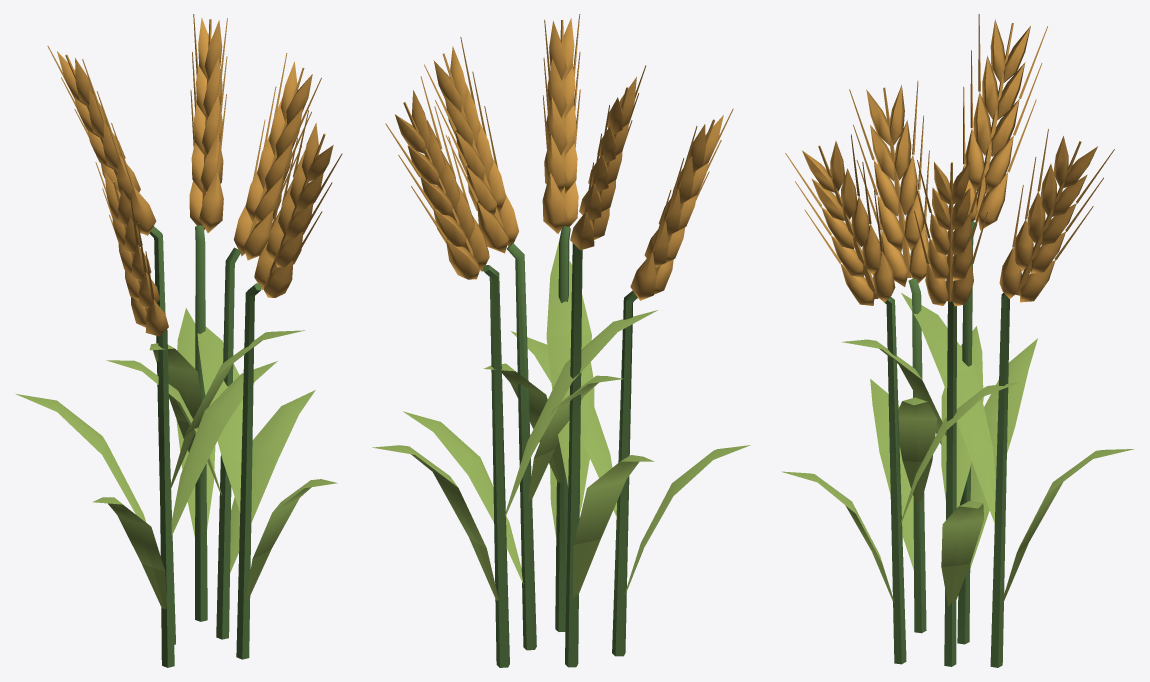
Rendered from crop_barley_mature.glb.
3 views of the same model, side by side, from view 1: azimuth 30°, elevation 25°; view 2: azimuth 150°, elevation 25°; view 3: azimuth 270°, elevation 25° (orthographic). The views are drawn at different scales.
Parts seen in each view (by area): view 1: barley_head_0_awn_0, barley_leaf_0_0, barley_stalk_0; view 2: barley_head_0_awn_0, barley_leaf_0_0, barley_stalk_0; view 3: barley_head_0_awn_0, barley_leaf_0_0, barley_stalk_0.
Part boxes in pixels (bbox=[...]): barley_head_0_awn_0: bbox=[47, 14, 342, 336]; barley_leaf_0_0: bbox=[16, 308, 337, 608]; barley_stalk_0: bbox=[149, 225, 261, 667]; barley_head_0_awn_0: bbox=[385, 14, 733, 300]; barley_leaf_0_0: bbox=[372, 242, 750, 600]; barley_stalk_0: bbox=[482, 226, 637, 667]; barley_head_0_awn_0: bbox=[785, 14, 1114, 306]; barley_leaf_0_0: bbox=[781, 293, 1134, 606]; barley_stalk_0: bbox=[885, 221, 1009, 667].
Size of the model in its own units: 0.568 by 1.16 by 0.6363.
